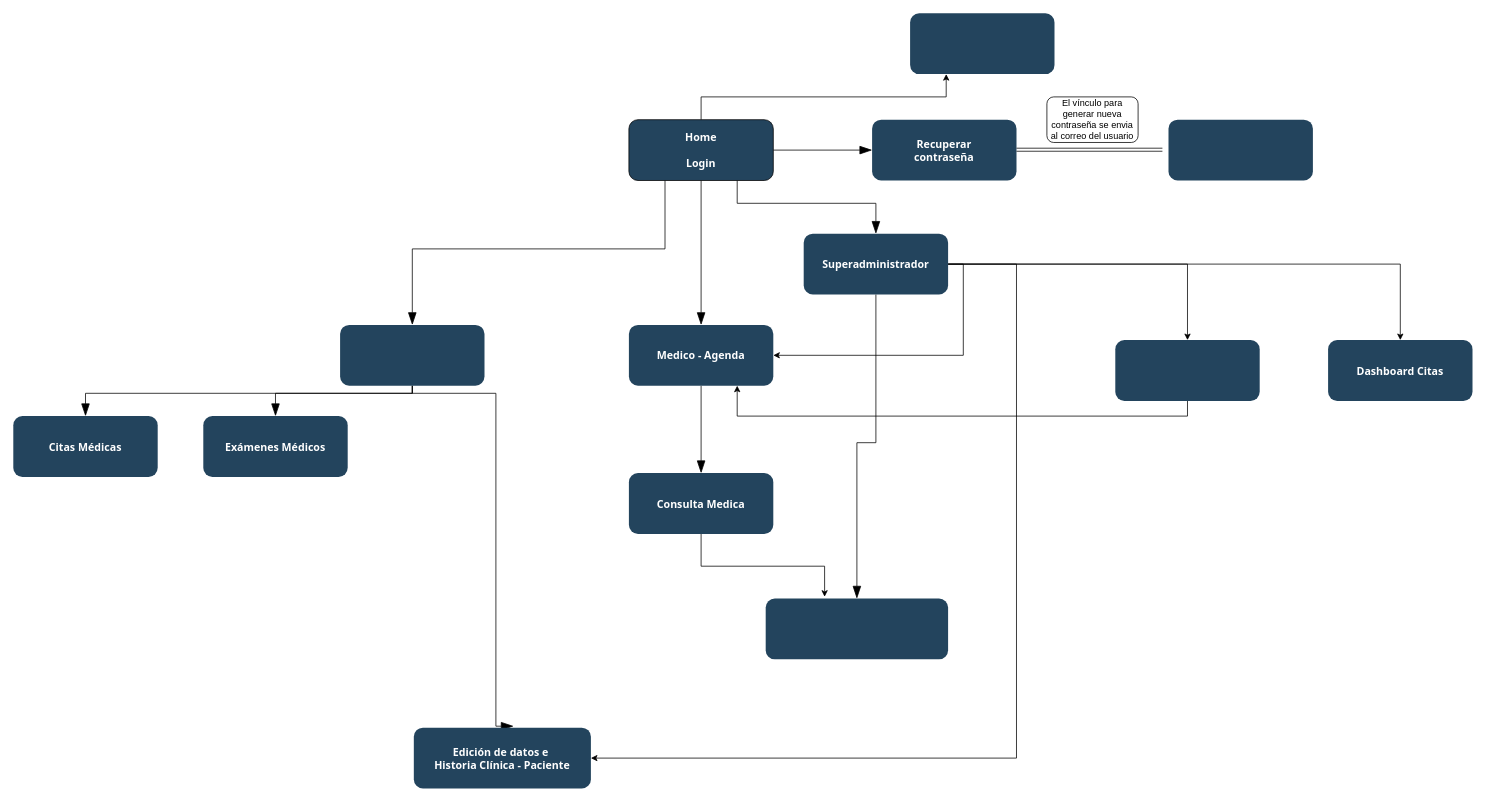
Image size: 1485x801. Some labels were removed from this diagram. The shapes that lost their labels are listed below. From the top down, each one's box as (x1, y1, x2, y2) in pixels, then its label:
(910, 13, 1054, 74): Registrarse
(1168, 119, 1313, 180): Generar nueva contraseña
(340, 325, 484, 385): Inicio Paciente
(1115, 340, 1259, 401): Apertura de agendas
(765, 598, 948, 659): Historia Clínica - Paciente
